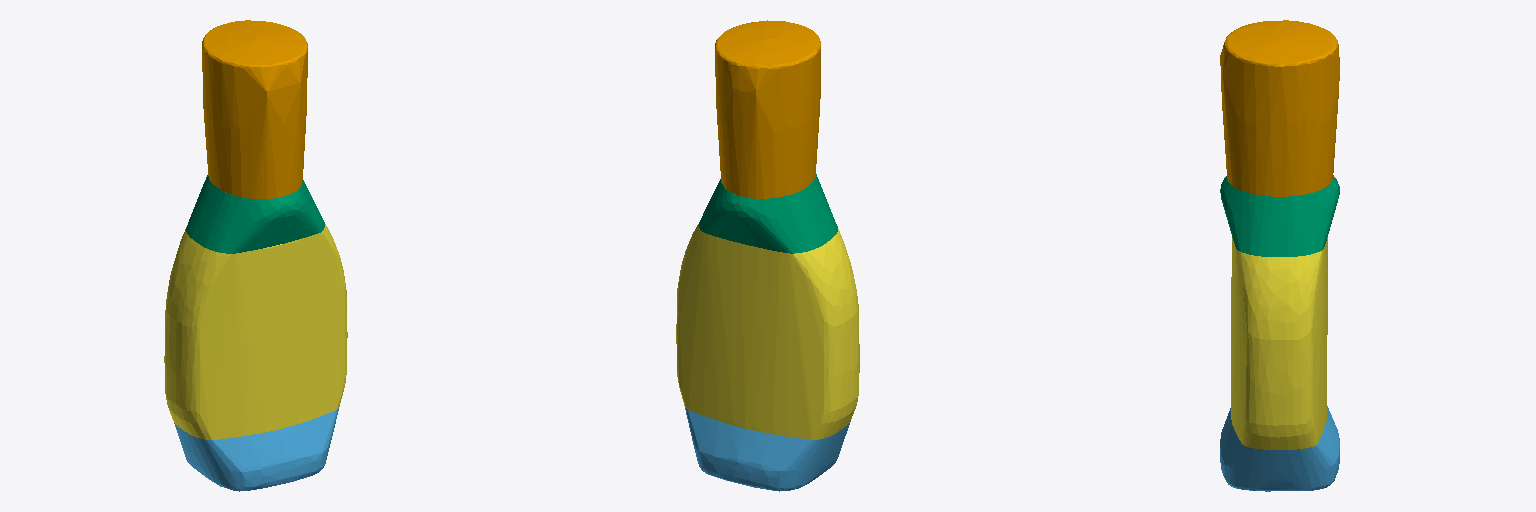
URDF robot description (root):
<?xml version='1.0' encoding='UTF-8'?>
<robot name="root">
  <link name="link_convex_piece_000.obj">
    <inertial>
      <origin xyz="0 0 0" rpy="0 0 0"/>
    </inertial>
    <visual>
      <origin xyz="0 0 0" rpy="0 0 0"/>
      <geometry>
        <mesh filename="meshes/convex_piece_000.obj" scale="1.0 1.0 1.0"/>
      </geometry>
    </visual>
    <collision>
      <origin xyz="0 0 0" rpy="0 0 0"/>
      <geometry>
        <mesh filename="meshes/convex_piece_000.obj" scale="1.0 1.0 1.0"/>
      </geometry>
    </collision>
  </link>
  <link name="link_convex_piece_001.obj">
    <inertial>
      <origin xyz="0 0 0" rpy="0 0 0"/>
    </inertial>
    <visual>
      <origin xyz="0 0 0" rpy="0 0 0"/>
      <geometry>
        <mesh filename="meshes/convex_piece_001.obj" scale="1.0 1.0 1.0"/>
      </geometry>
    </visual>
    <collision>
      <origin xyz="0 0 0" rpy="0 0 0"/>
      <geometry>
        <mesh filename="meshes/convex_piece_001.obj" scale="1.0 1.0 1.0"/>
      </geometry>
    </collision>
  </link>
  <link name="link_convex_piece_002.obj">
    <inertial>
      <origin xyz="0 0 0" rpy="0 0 0"/>
    </inertial>
    <visual>
      <origin xyz="0 0 0" rpy="0 0 0"/>
      <geometry>
        <mesh filename="meshes/convex_piece_002.obj" scale="1.0 1.0 1.0"/>
      </geometry>
    </visual>
    <collision>
      <origin xyz="0 0 0" rpy="0 0 0"/>
      <geometry>
        <mesh filename="meshes/convex_piece_002.obj" scale="1.0 1.0 1.0"/>
      </geometry>
    </collision>
  </link>
  <link name="link_convex_piece_003.obj">
    <inertial>
      <origin xyz="0 0 0" rpy="0 0 0"/>
    </inertial>
    <visual>
      <origin xyz="0 0 0" rpy="0 0 0"/>
      <geometry>
        <mesh filename="meshes/convex_piece_003.obj" scale="1.0 1.0 1.0"/>
      </geometry>
    </visual>
    <collision>
      <origin xyz="0 0 0" rpy="0 0 0"/>
      <geometry>
        <mesh filename="meshes/convex_piece_003.obj" scale="1.0 1.0 1.0"/>
      </geometry>
    </collision>
  </link>
  <joint name="link_convex_piece_001.obj_joint" type="fixed">
    <origin xyz="0 0 0" rpy="0 0 0"/>
    <parent link="link_convex_piece_000.obj"/>
    <child link="link_convex_piece_001.obj"/>
  </joint>
  <joint name="link_convex_piece_002.obj_joint" type="fixed">
    <origin xyz="0 0 0" rpy="0 0 0"/>
    <parent link="link_convex_piece_000.obj"/>
    <child link="link_convex_piece_002.obj"/>
  </joint>
  <joint name="link_convex_piece_003.obj_joint" type="fixed">
    <origin xyz="0 0 0" rpy="0 0 0"/>
    <parent link="link_convex_piece_000.obj"/>
    <child link="link_convex_piece_003.obj"/>
  </joint>
</robot>

--- What the picture shows (computed from the rendered views, not written in the file) ---
The picture shows the robot from 3 angles, left to right: view 1: azimuth 30°, elevation 25°; view 2: azimuth 150°, elevation 25°; view 3: azimuth 270°, elevation 25°; orthographic projection.
Robot: root — 4 links, 3 joints (3 fixed); root link link_convex_piece_000.obj; default pose: every joint at zero.
Links seen in each view (by area): view 1: link_convex_piece_003.obj, link_convex_piece_000.obj, link_convex_piece_001.obj, link_convex_piece_002.obj; view 2: link_convex_piece_003.obj, link_convex_piece_000.obj, link_convex_piece_001.obj, link_convex_piece_002.obj; view 3: link_convex_piece_000.obj, link_convex_piece_003.obj, link_convex_piece_002.obj, link_convex_piece_001.obj.
Boxes of the visible links, left/top/right/bottom form: link_convex_piece_003.obj: left=164, top=224, right=347, bottom=439; link_convex_piece_000.obj: left=202, top=20, right=307, bottom=198; link_convex_piece_001.obj: left=174, top=408, right=338, bottom=491; link_convex_piece_002.obj: left=186, top=175, right=324, bottom=253; link_convex_piece_003.obj: left=676, top=224, right=859, bottom=439; link_convex_piece_000.obj: left=715, top=20, right=820, bottom=198; link_convex_piece_001.obj: left=685, top=408, right=850, bottom=491; link_convex_piece_002.obj: left=699, top=174, right=837, bottom=253; link_convex_piece_000.obj: left=1220, top=20, right=1339, bottom=196; link_convex_piece_003.obj: left=1231, top=237, right=1327, bottom=449; link_convex_piece_002.obj: left=1220, top=175, right=1339, bottom=256; link_convex_piece_001.obj: left=1220, top=406, right=1339, bottom=491.
Size in the robot's own frame: 0.0719 by 0.0449 by 0.177 metres.
4 mesh visuals loaded from 4 distinct referenced files (4 OBJ).
